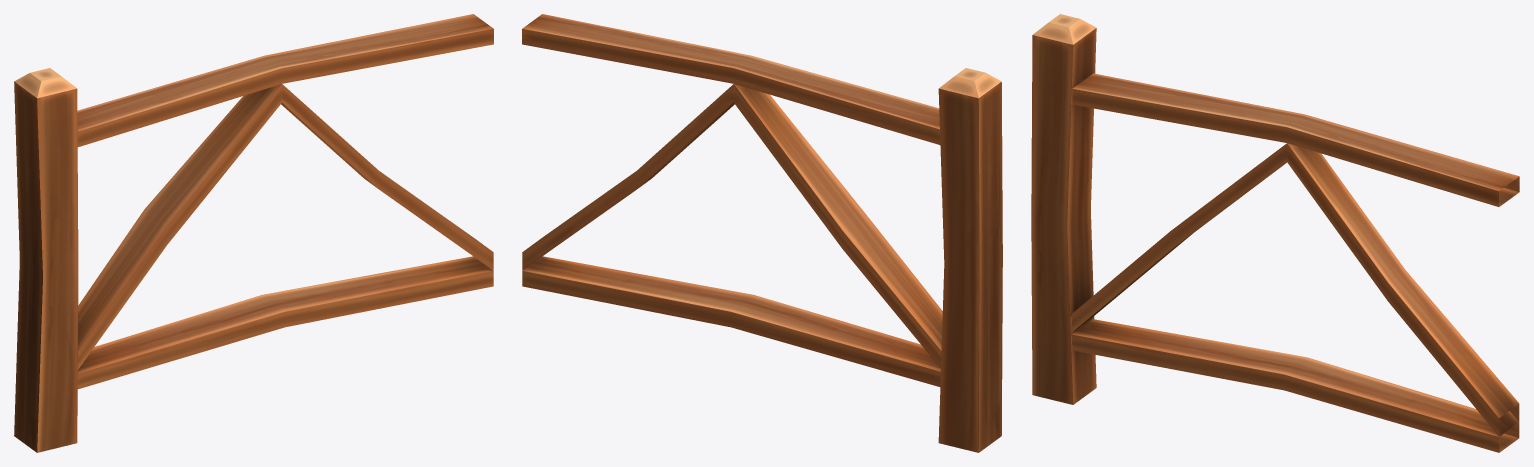
File: Fences01_4.FBX
3 renders of one model, left to right at view 1: azimuth 30°, elevation 25°; view 2: azimuth 150°, elevation 25°; view 3: azimuth 330°, elevation 25°, orthographic.
Parts seen in each view (by area): view 1: Fences01_4; view 2: Fences01_4; view 3: Fences01_4.
Boxes of the visible parts, box(x1,y1,x2,y2) form: Fences01_4: box(14, 14, 493, 452); Fences01_4: box(522, 14, 1002, 452); Fences01_4: box(1031, 14, 1519, 452).
Size of what is drawn, in the model's own units: 1.76 by 1.34 by 0.1958.
